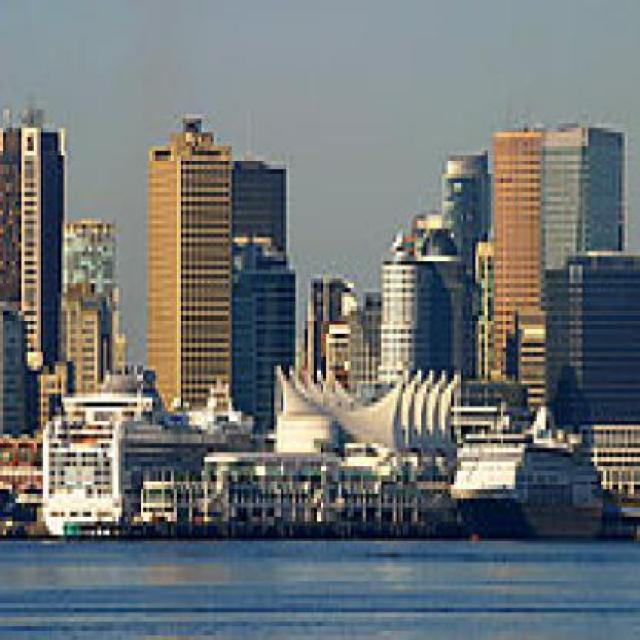cruise: (446, 404, 623, 550)
